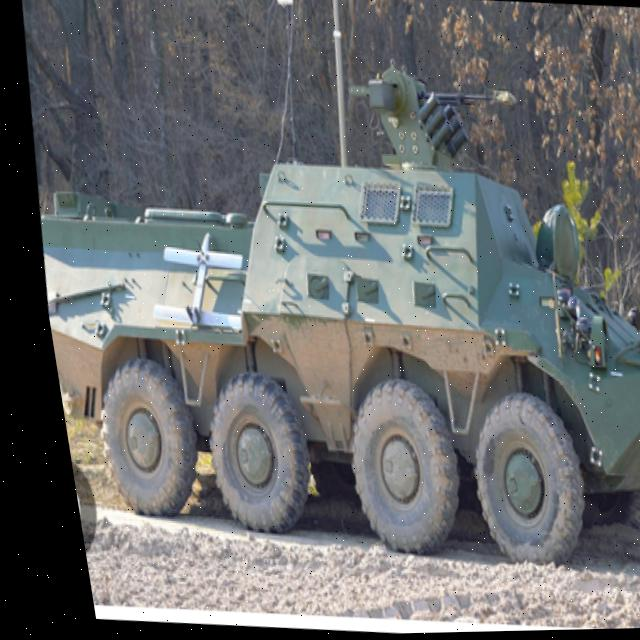MIL_APC: (16, 118, 640, 577)
